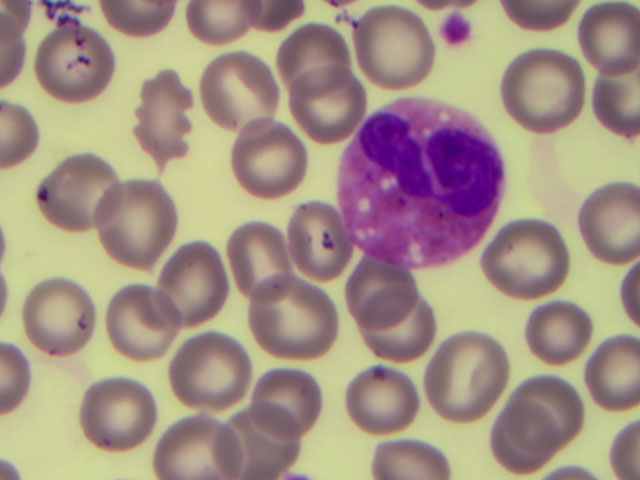Platelets: (444, 13, 470, 46)
RBC: (428, 333, 504, 426), (201, 56, 284, 137), (252, 282, 336, 359), (235, 116, 307, 200), (506, 56, 585, 132), (358, 10, 433, 86), (495, 226, 568, 302), (98, 186, 173, 259), (228, 407, 299, 480), (175, 343, 250, 412), (42, 161, 121, 226), (40, 27, 112, 98), (514, 377, 587, 447), (228, 227, 294, 303), (144, 70, 195, 165), (27, 284, 93, 355), (577, 185, 640, 259), (170, 242, 229, 321), (519, 297, 593, 359), (494, 402, 558, 473), (85, 380, 154, 445), (163, 424, 241, 480), (286, 202, 343, 278), (352, 369, 417, 435), (260, 370, 324, 437), (582, 4, 640, 77), (282, 30, 350, 92), (116, 285, 175, 356), (295, 70, 354, 140), (368, 297, 431, 362), (352, 263, 411, 332), (373, 434, 451, 480), (594, 341, 640, 412), (106, 1, 176, 35), (1, 102, 37, 162), (189, 1, 249, 37), (503, 1, 571, 32), (1, 343, 25, 418), (614, 264, 640, 329), (1, 16, 20, 81), (549, 467, 595, 480)
WBC: (352, 112, 498, 263)
